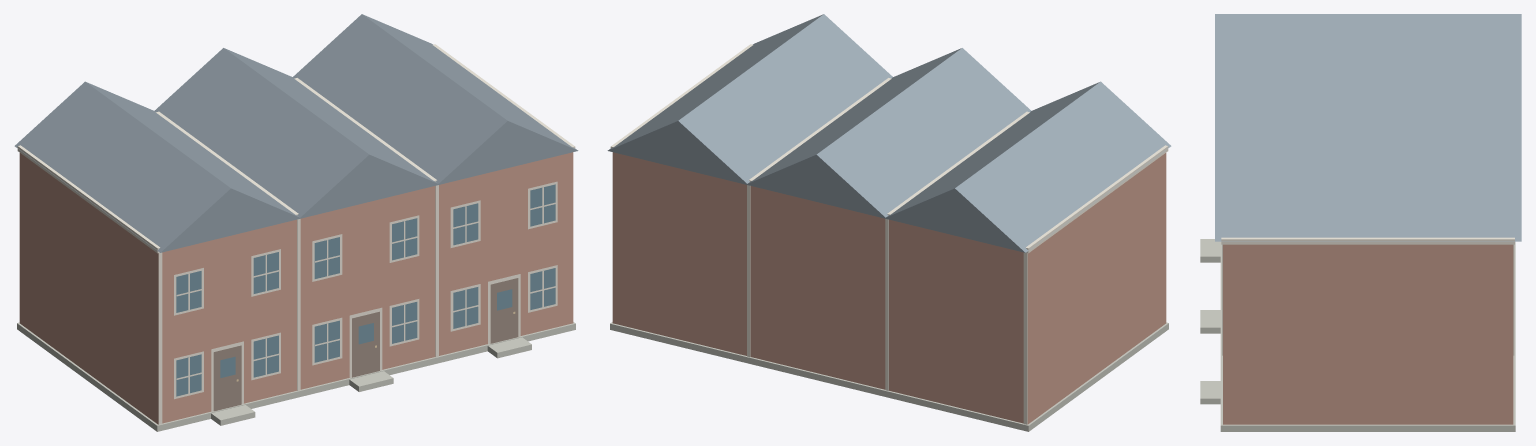
File: townhouse-brick.glb
3 renders of one model, left to right at view 1: azimuth 30°, elevation 25°; view 2: azimuth 150°, elevation 25°; view 3: azimuth 270°, elevation 25°, orthographic. The views are drawn at different scales.
Parts seen in each view (by area): view 1: townhouse-brick; view 2: townhouse-brick; view 3: townhouse-brick.
Boxes of the visible parts, left/top/right/bottom form: townhouse-brick: left=14, top=14, right=578, bottom=431; townhouse-brick: left=607, top=14, right=1171, bottom=431; townhouse-brick: left=1200, top=14, right=1521, bottom=431.
Size of the model in its own units: 15.74 by 8.2 by 9.95.
